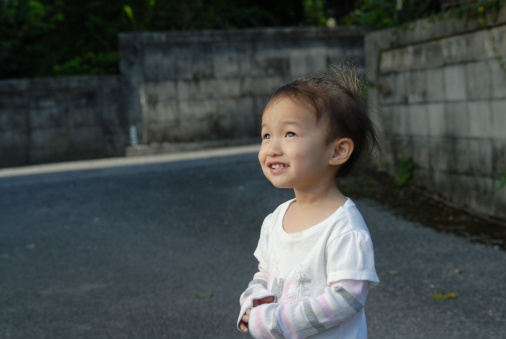em pe: (209, 69, 393, 339)
